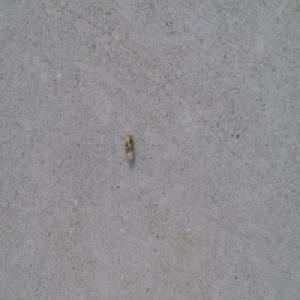BoltNutSet: (124, 134, 135, 161)
